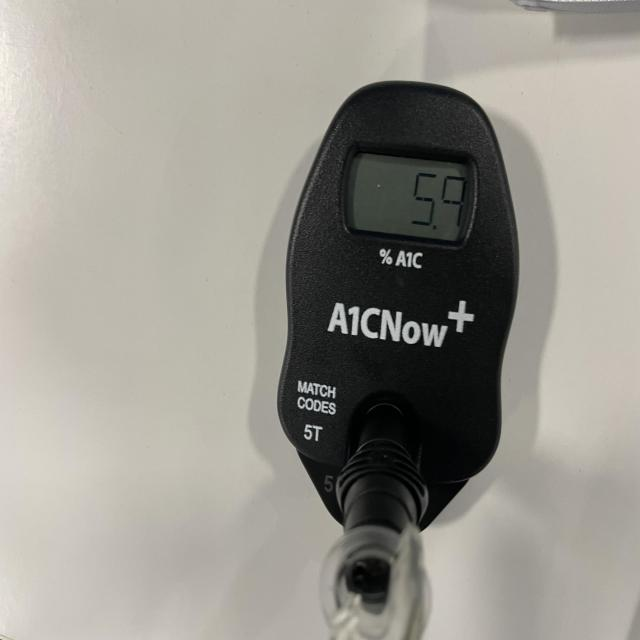hba1c: (275, 81, 520, 640)
